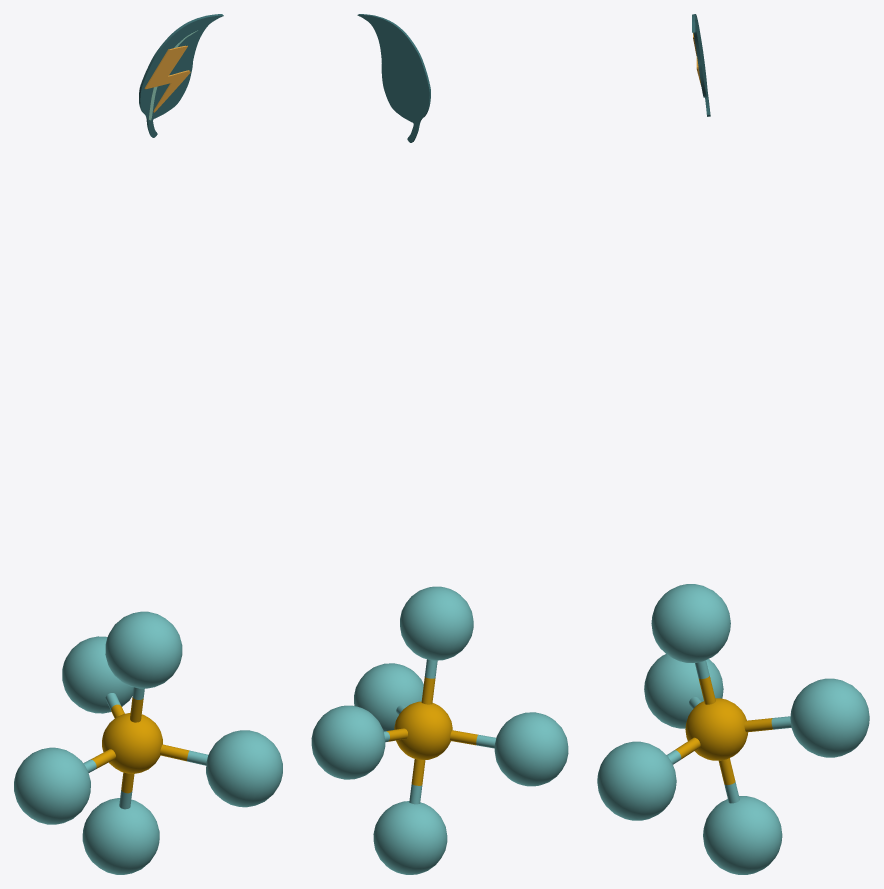
File: bip_trig.glb
3 views of the same model, side by side, from view 1: azimuth 30°, elevation 25°; view 2: azimuth 150°, elevation 25°; view 3: azimuth 270°, elevation 25° (orthographic). The views are drawn at different scales.
Visible parts, largest first — view 1: pcl5_bip-trigon, path182, path186; view 2: pcl5_bip-trigon, path182; view 3: pcl5_bip-trigon, path182.
Part boxes in pixels (x1,y1,x2,y2): pcl5_bip-trigon: (14,611,282,874); path182: (139,14,223,137); path186: (144,45,190,112); pcl5_bip-trigon: (311,586,568,874); path182: (357,14,430,142); pcl5_bip-trigon: (597,584,869,874); path182: (692,14,710,116).
Size of the model in its own units: 1.76 by 6.12 by 1.72.
